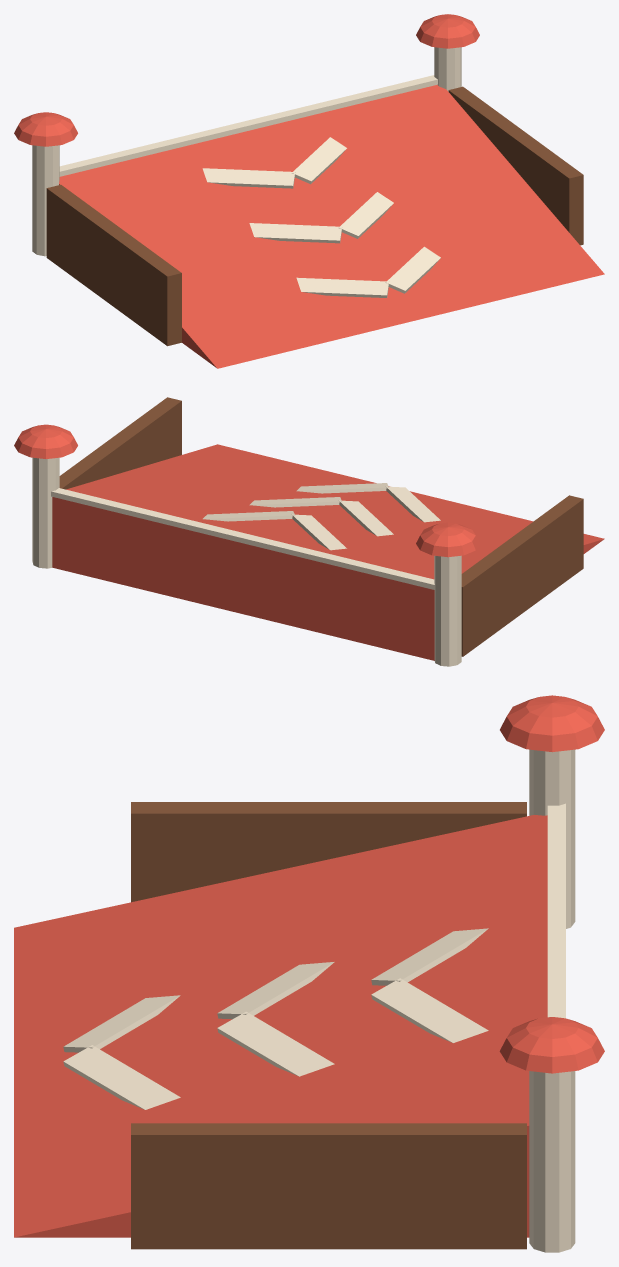
Rendered from ramp_r32_backup.glb.
The picture shows the model from 3 angles, top to bottom: view 1: azimuth 30°, elevation 25°; view 2: azimuth 150°, elevation 25°; view 3: azimuth 270°, elevation 25°; orthographic projection. The views are drawn at different scales.
Parts seen in each view (by area): view 1: Ramp; view 2: Ramp; view 3: Ramp.
Part boxes in pixels (x1,y1,x2,y2): Ramp: (14,14,604,368); Ramp: (14,397,604,666); Ramp: (14,695,604,1252).
Size of the model in its own units: 7.56 by 2.11 by 5.16.
